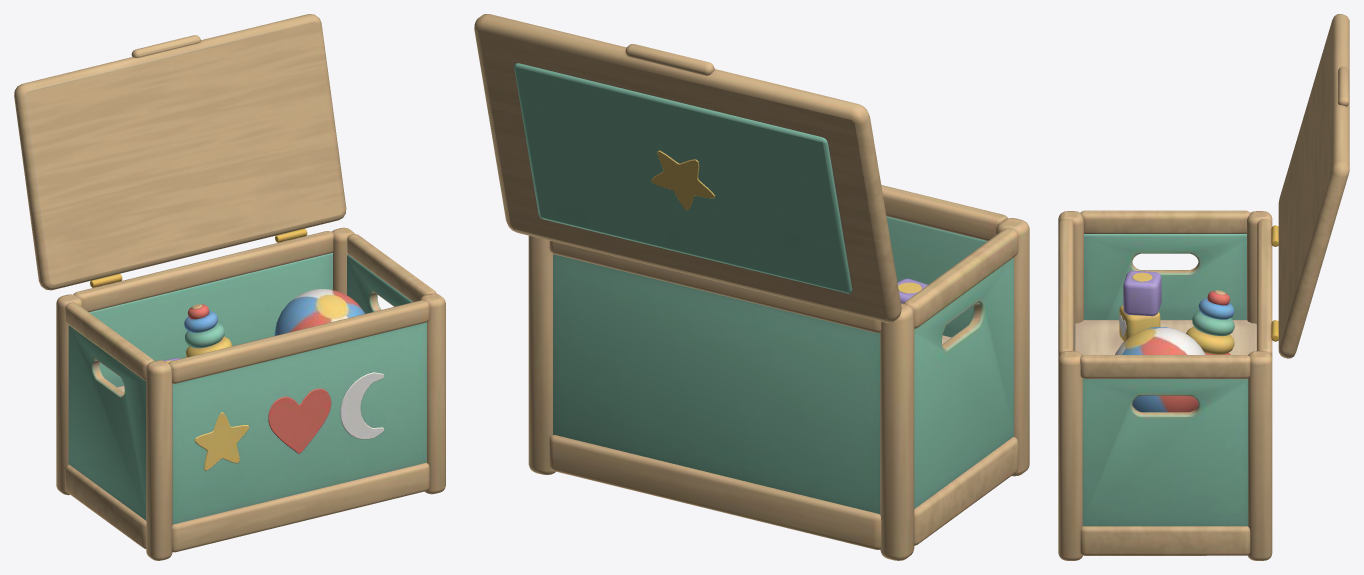
Rendered from baul_juguetes.glb.
3 views of the same model, side by side, from view 1: azimuth 30°, elevation 25°; view 2: azimuth 150°, elevation 25°; view 3: azimuth 270°, elevation 25° (orthographic). The views are drawn at different scales.
Parts seen in each view (by area): view 1: toy-box_body; view 2: toy-box_body; view 3: toy-box_body.
Boxes of the visible parts, x1=… form: toy-box_body: x1=14, y1=14, x2=445, y2=560; toy-box_body: x1=474, y1=14, x2=1029, y2=560; toy-box_body: x1=1058, y1=14, x2=1349, y2=560.
Bounding box in the file's own units: 0.724 × 0.8781 × 0.5715.
2 materials, 2 textured.
